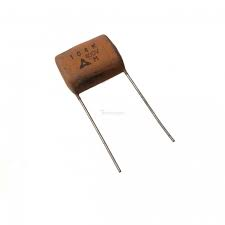ceramic capacitor: (36, 22, 141, 117)
